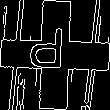P_S: (36, 29, 74, 81)
